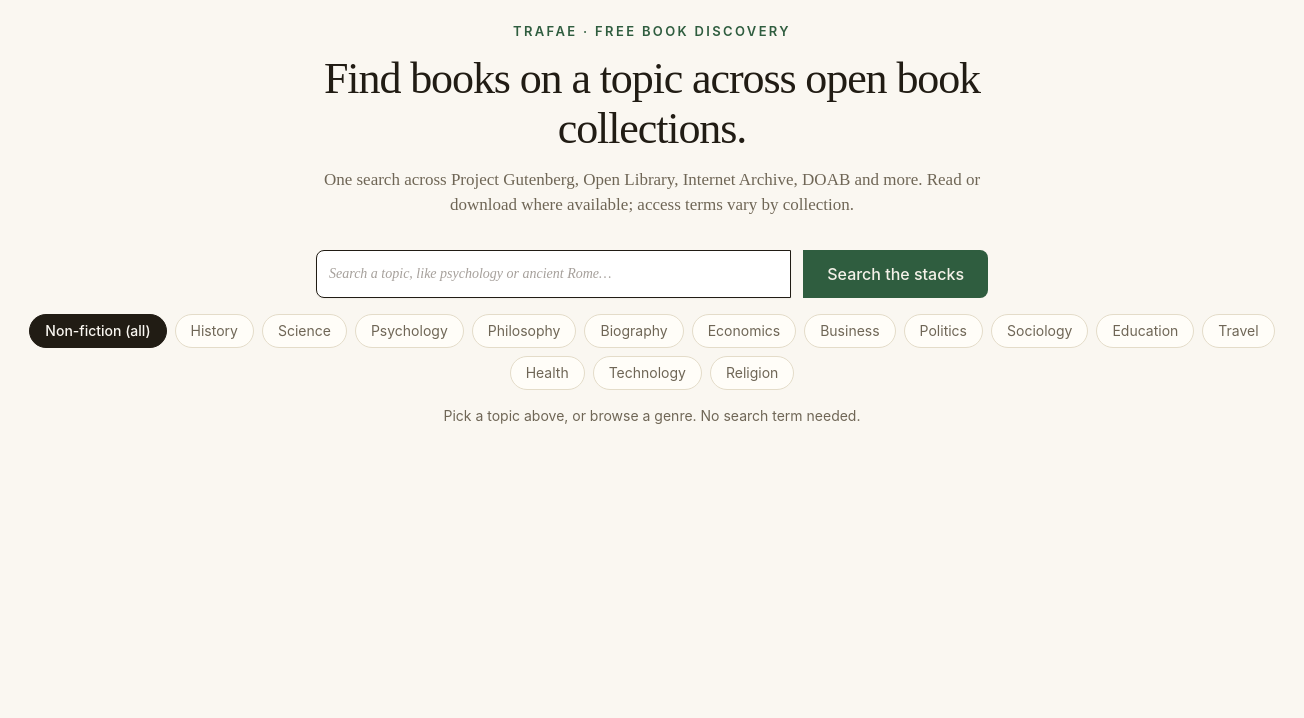
Scenario: disables Previous on the first page
The width and height of the screenshot is (1304, 718).
Type "psychology" into the field with placeholder "Search a topic, like psychology or ancient Rome…" at point(554, 274), box [316, 250, 791, 298]
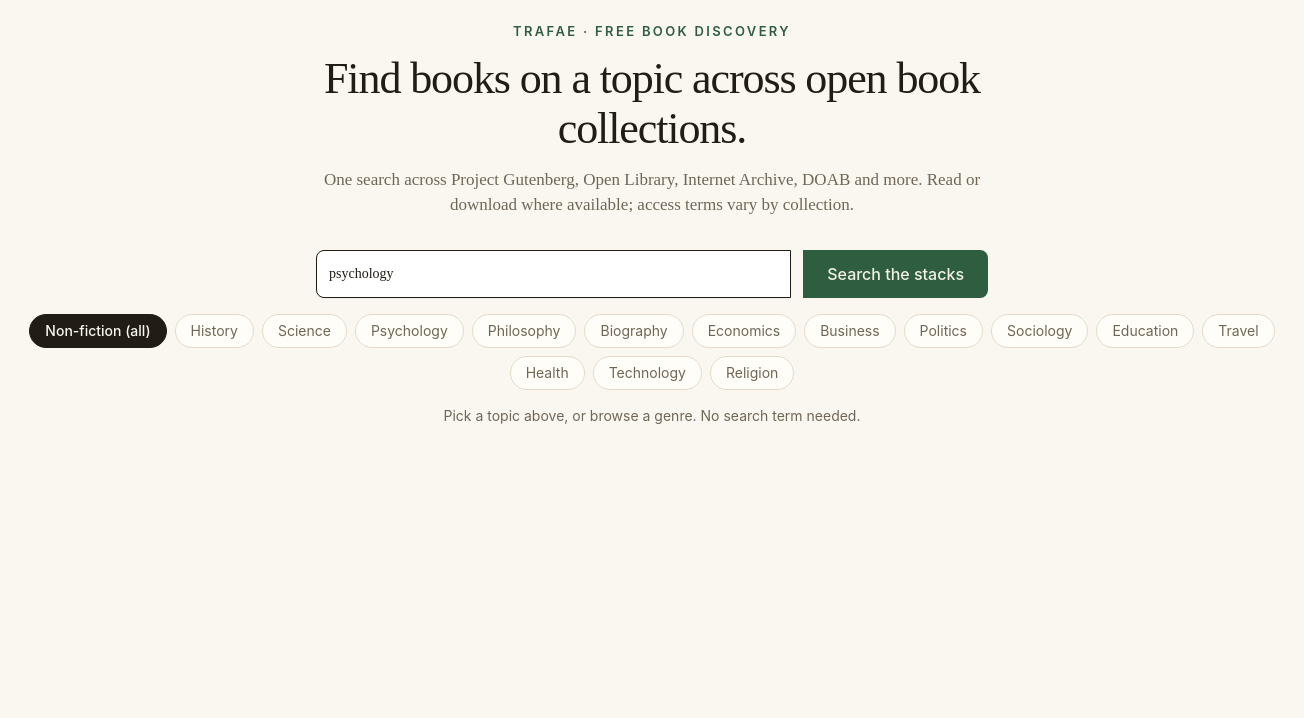
Click the button "Search the stacks" at point(896, 274), box [803, 250, 988, 298]
(page scrolled)
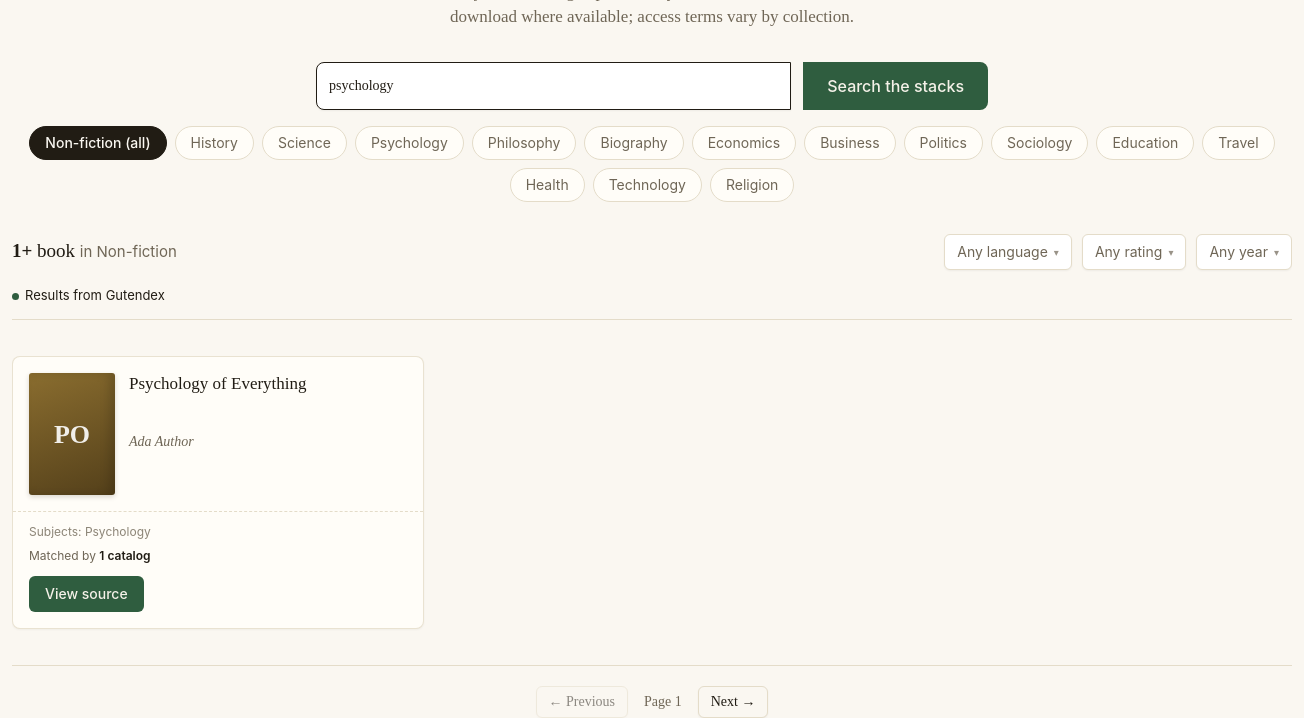
Now the button "← Previous" is disabled, box [536, 686, 628, 717]
Now the button "Next →" is enabled, box [698, 686, 768, 717]
